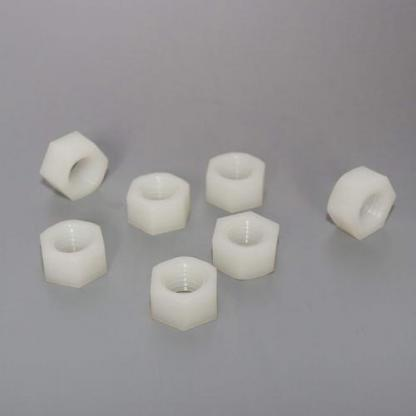FOD: (37, 213, 110, 290), (146, 256, 219, 333), (325, 164, 396, 243), (210, 210, 282, 283), (36, 133, 111, 202), (124, 169, 192, 236), (204, 151, 266, 216)
